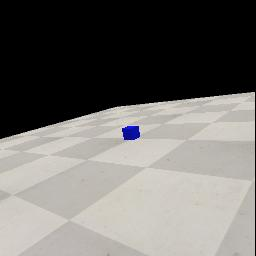box: (122, 126, 140, 140)
